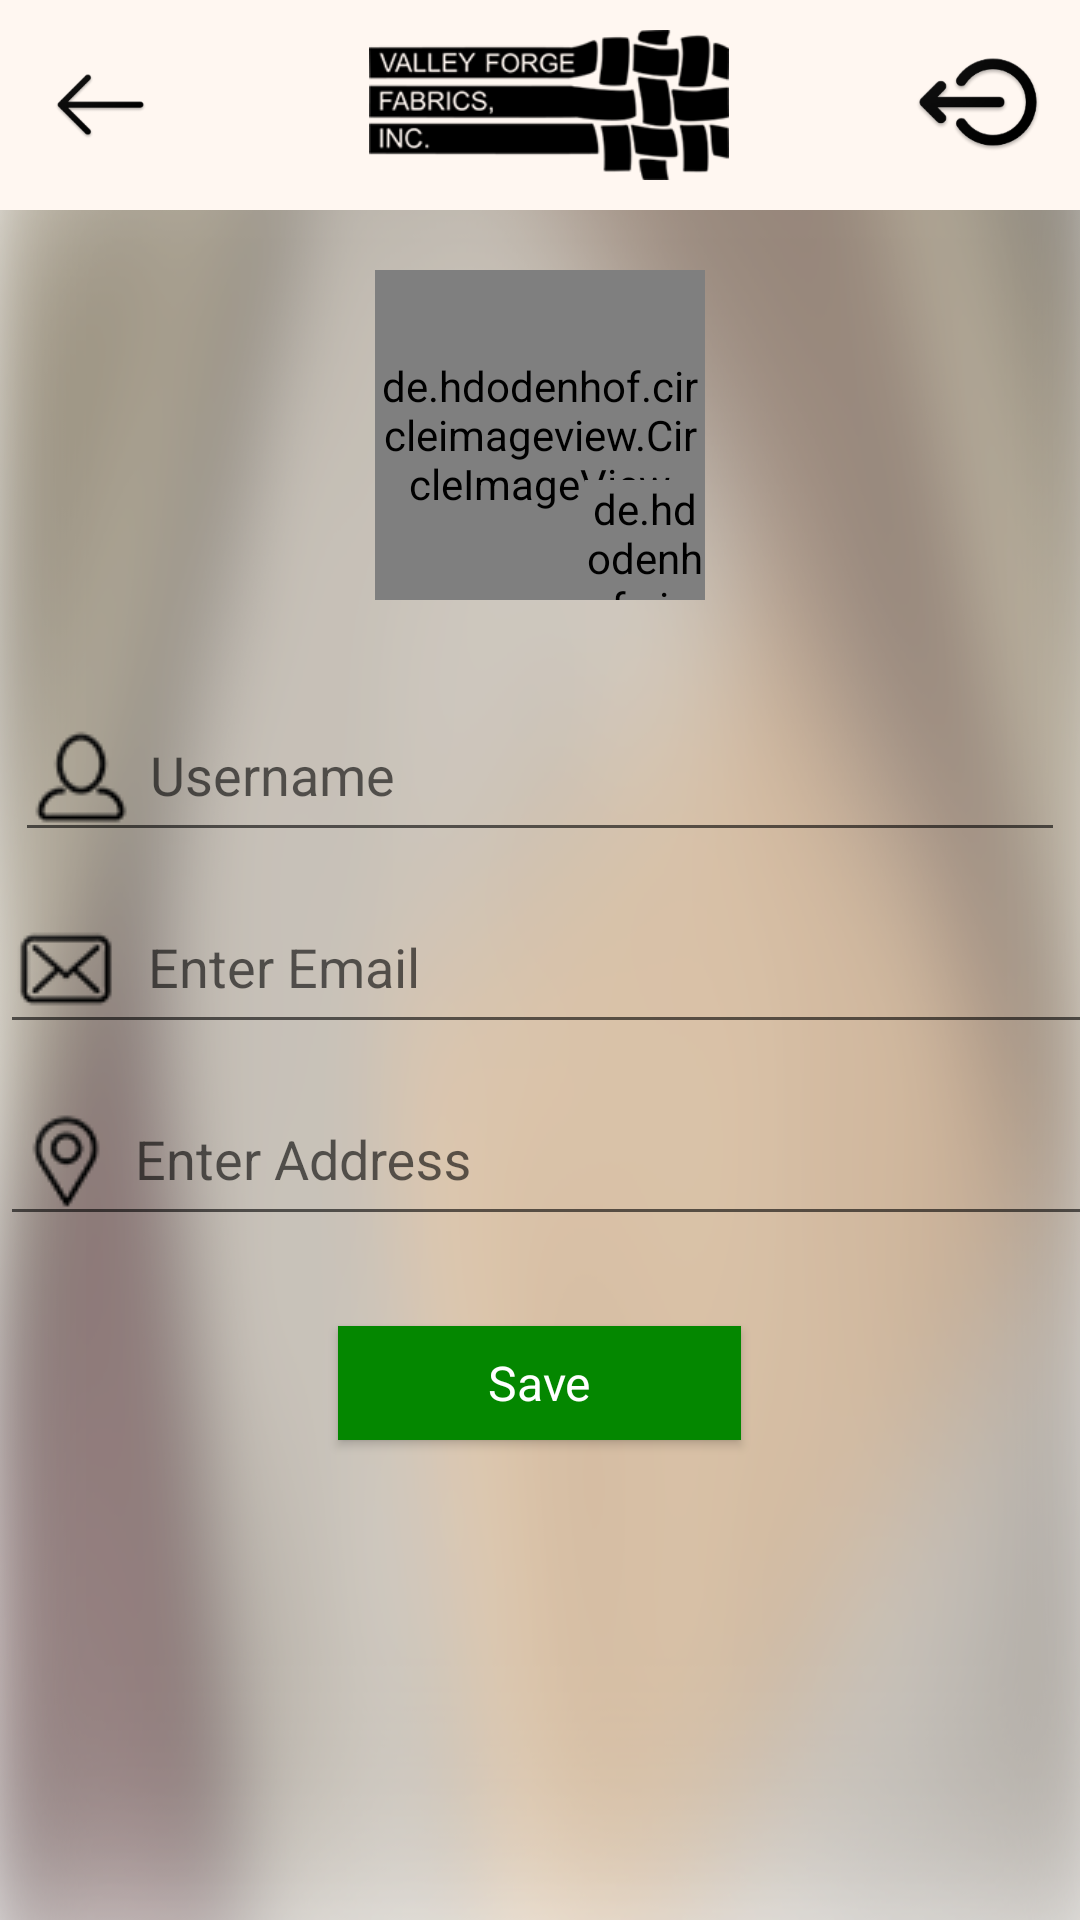

Point at icon controls on the screen. Image size 1080w x 1920h, points as point (x, y).
back: point (100, 105)
